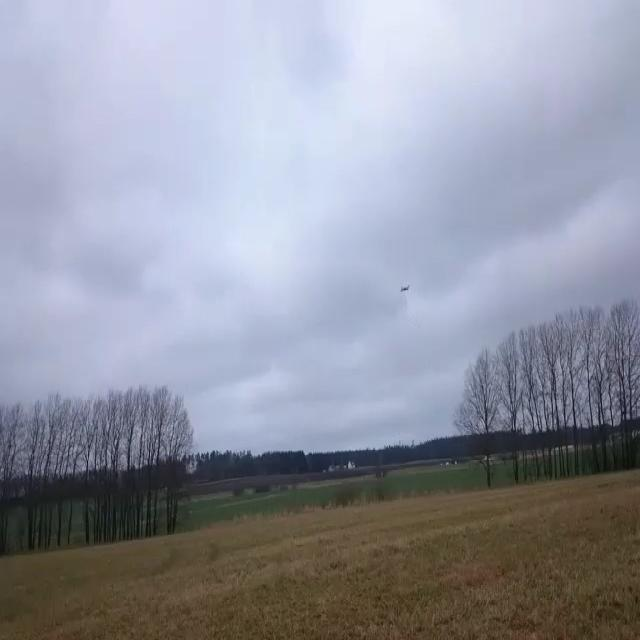drone: (400, 284, 410, 292)
